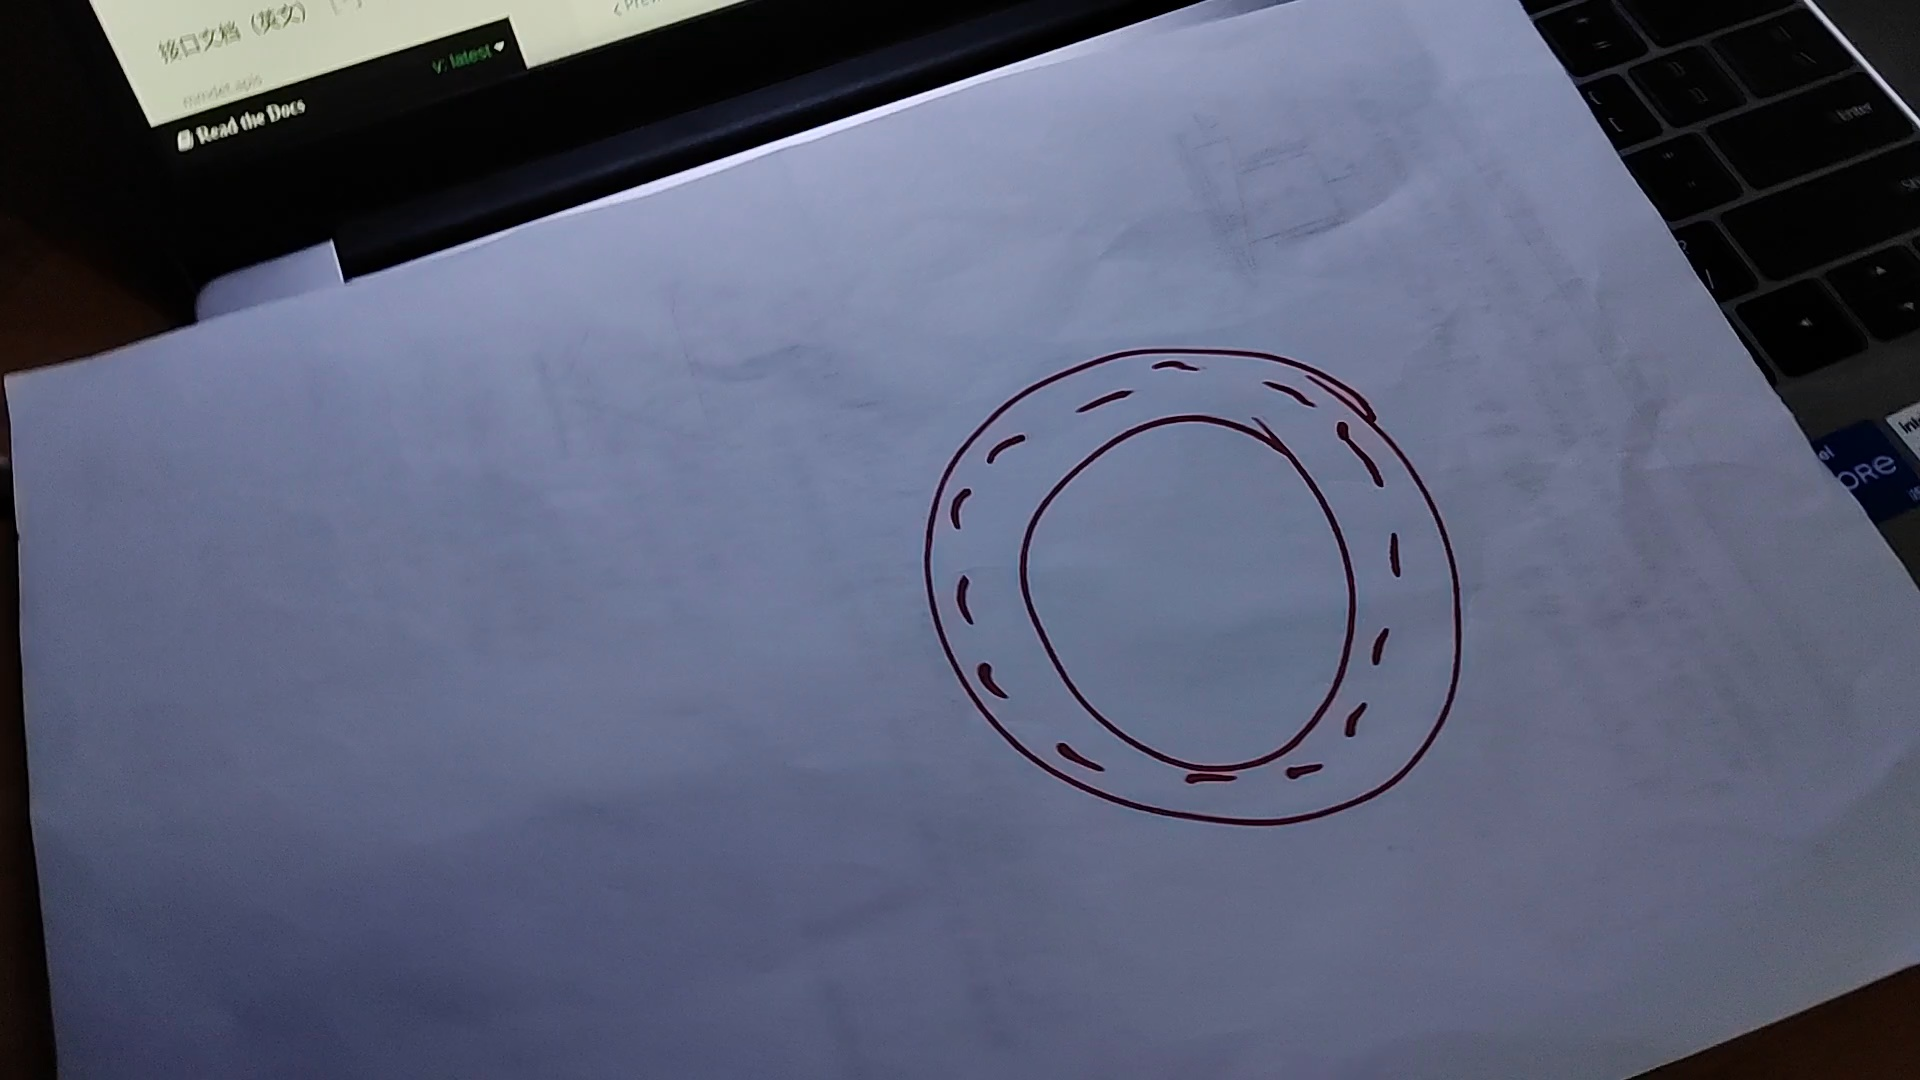circle: (926, 348, 1462, 824)
